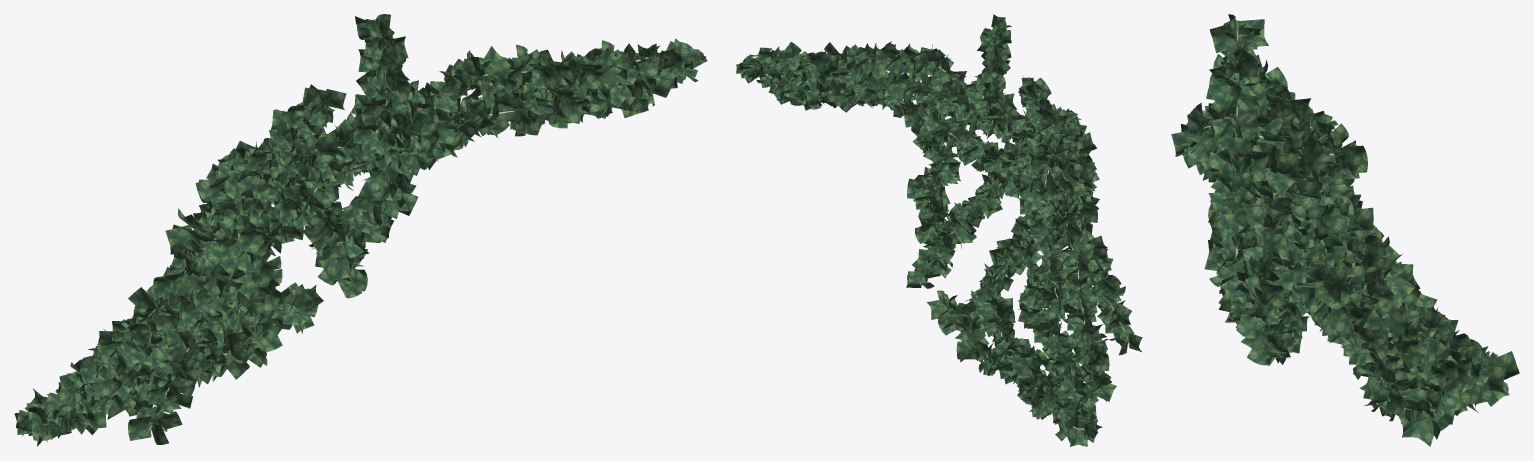
Rendered from SM_Ivy_03.fbx.
3 renders of one model, left to right at view 1: azimuth 30°, elevation 25°; view 2: azimuth 150°, elevation 25°; view 3: azimuth 270°, elevation 25°, orthographic. The views are drawn at different scales.
Parts seen in each view (by area): view 1: SM_Ivy_03_LOD0; view 2: SM_Ivy_03_LOD0; view 3: SM_Ivy_03_LOD0.
Boxes of the visible parts, <box> form: SM_Ivy_03_LOD0: <box>14,14,707,446</box>; SM_Ivy_03_LOD0: <box>736,14,1142,446</box>; SM_Ivy_03_LOD0: <box>1171,14,1519,446</box>.
Size of the model in its own units: 742 by 340 by 541.
Materials: 2 (1 with a texture image).
